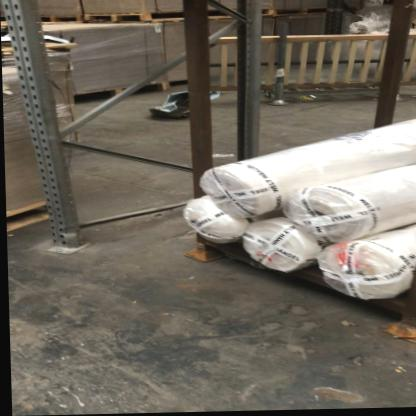vertical_damage: (37, 216, 94, 255)
